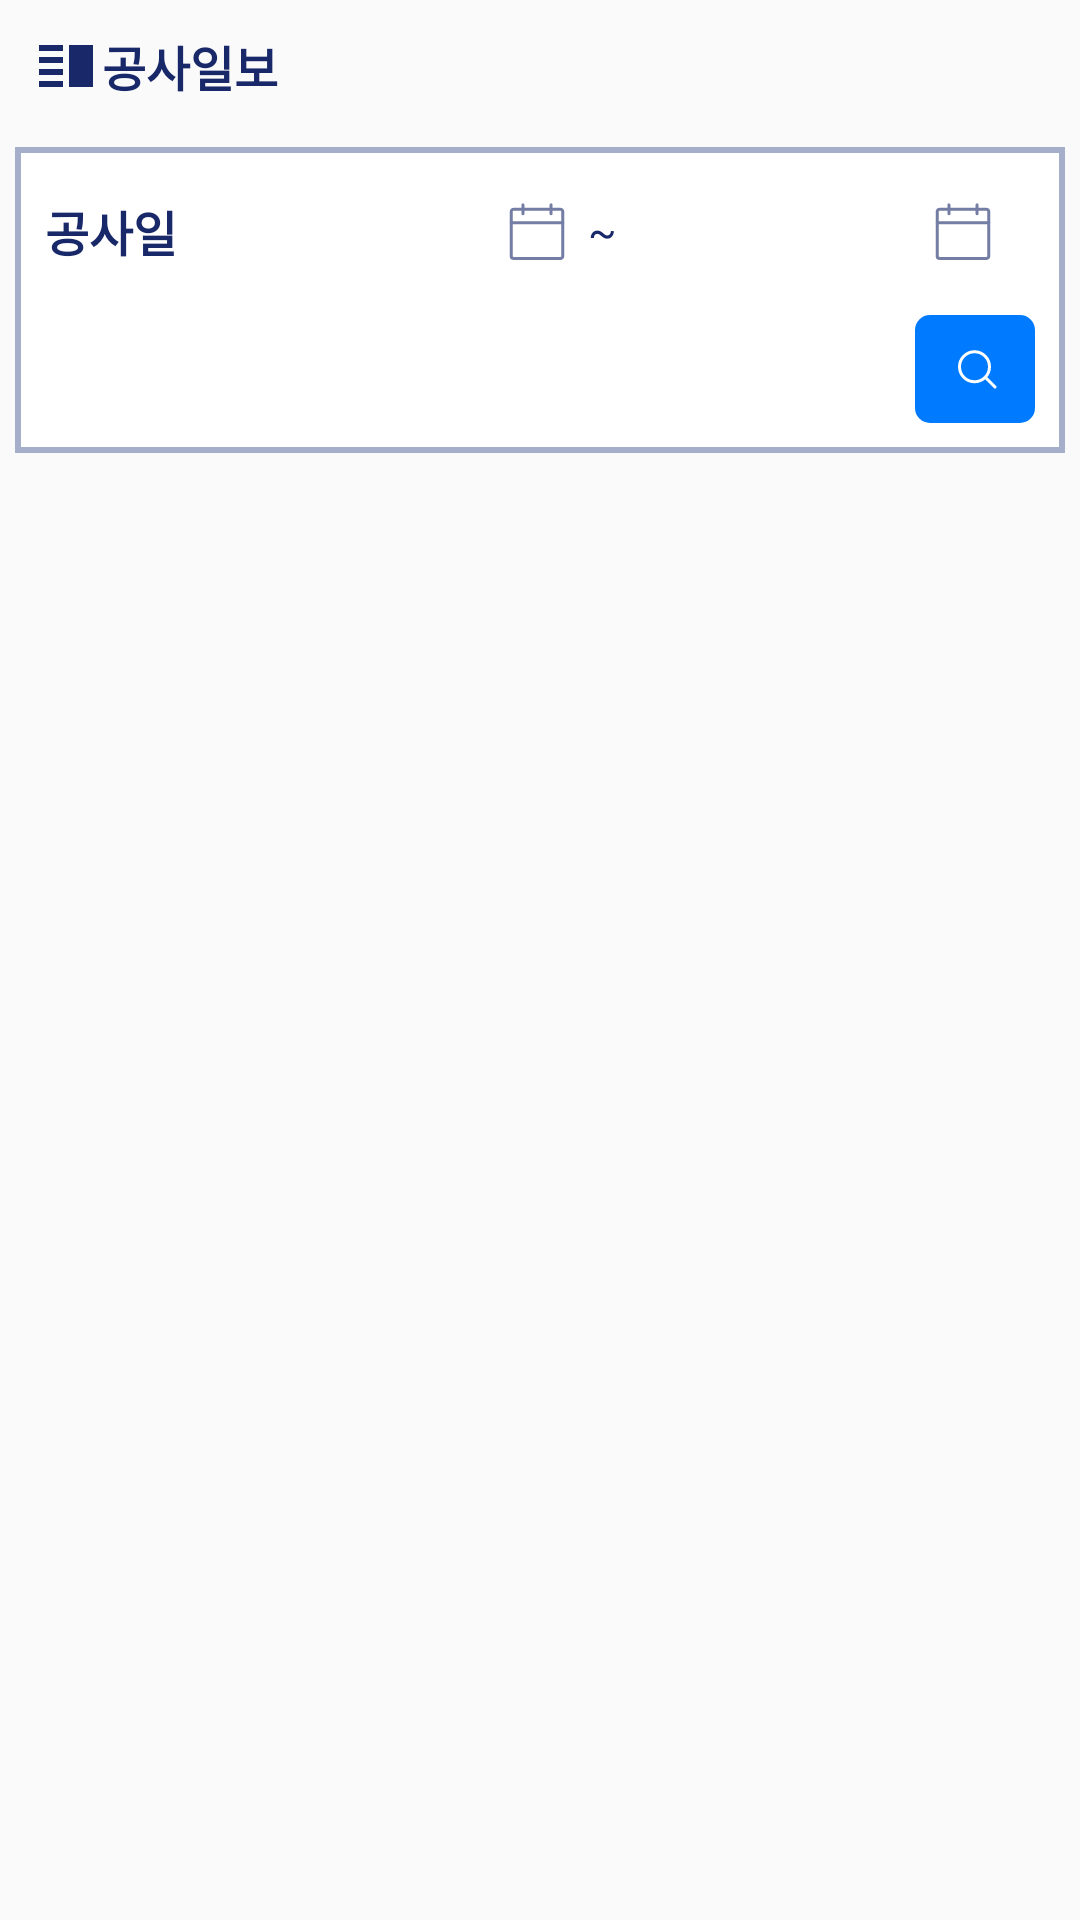

Icon click points for this 1080px×1920px phone screenshot, format point (x, y):
calendar: point (537, 231), point (963, 231)
search: point (975, 369)
